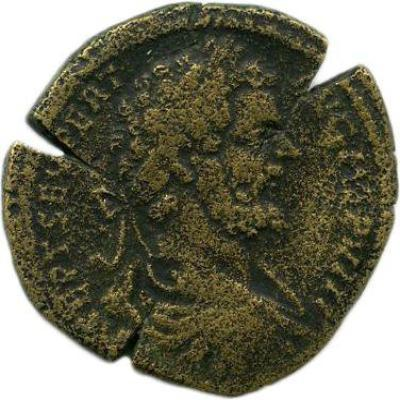numismatics: (5, 5, 397, 393)
